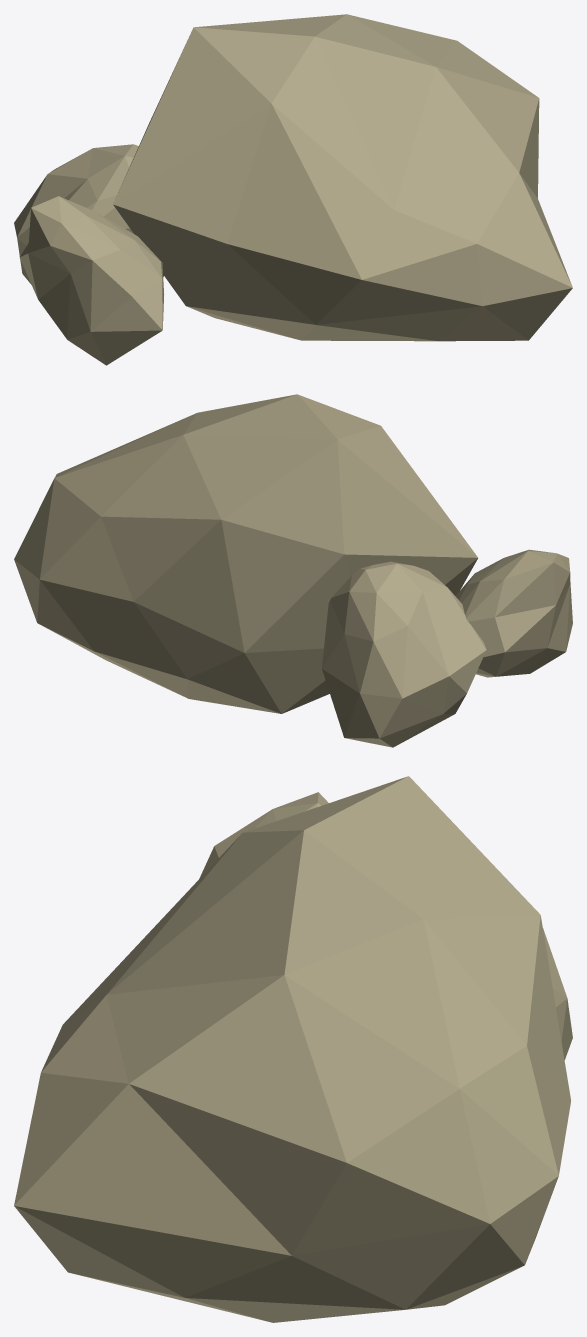
File: _ock2.fbx
3 views of the same model, one above another, from view 1: azimuth 30°, elevation 25°; view 2: azimuth 150°, elevation 25°; view 3: azimuth 270°, elevation 25° (orthographic). The views are drawn at different scales.
Visible parts, largest first — view 1: Rock3; view 2: Rock3; view 3: Rock3.
Boxes of the visible parts, left/top/right/bottom form: Rock3: left=14, top=14, right=572, bottom=365; Rock3: left=14, top=394, right=572, bottom=747; Rock3: left=14, top=776, right=572, bottom=1322.
Bounding box in the file's own units: 140 × 78.53 × 97.34.
